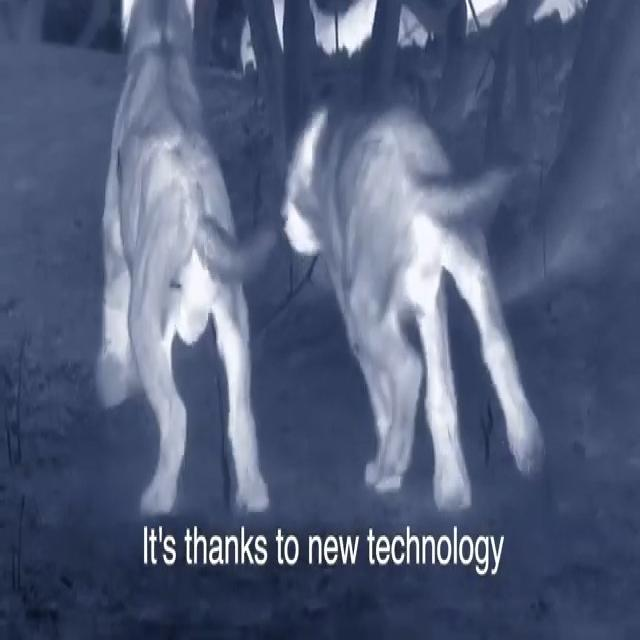animal: (266, 59, 568, 513), (68, 0, 306, 524)
